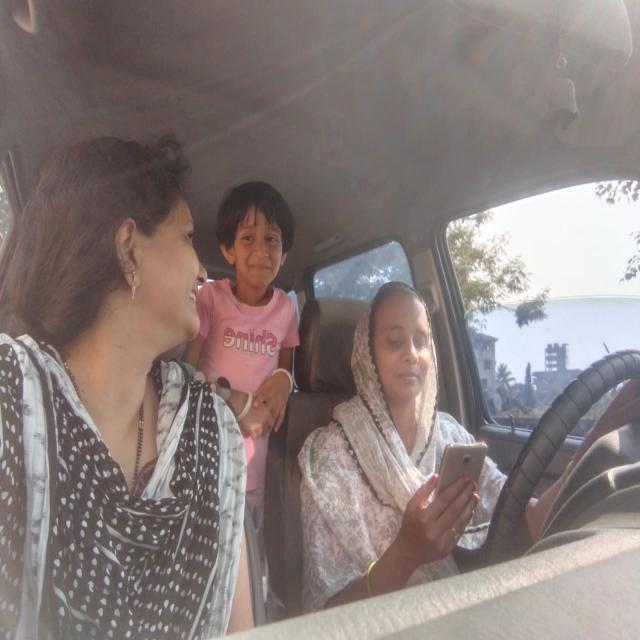mobile: (438, 442, 488, 506)
person: (46, 142, 210, 354), (224, 179, 295, 289), (376, 276, 439, 399)
